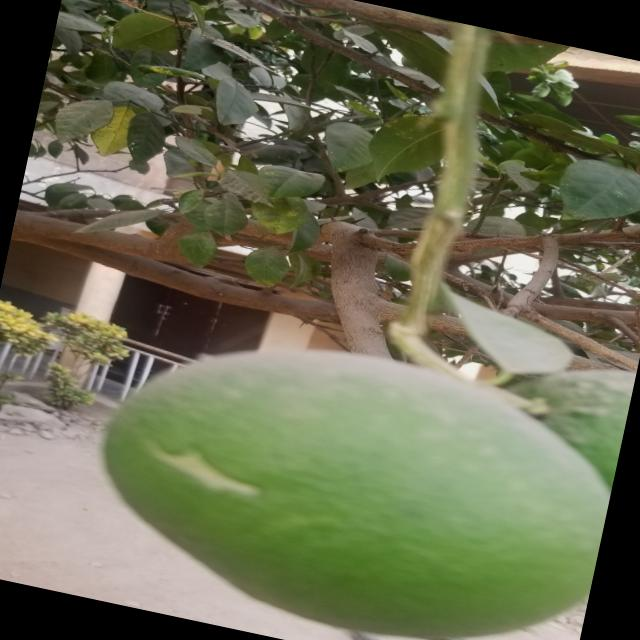Unripe: (76, 307, 618, 640)
